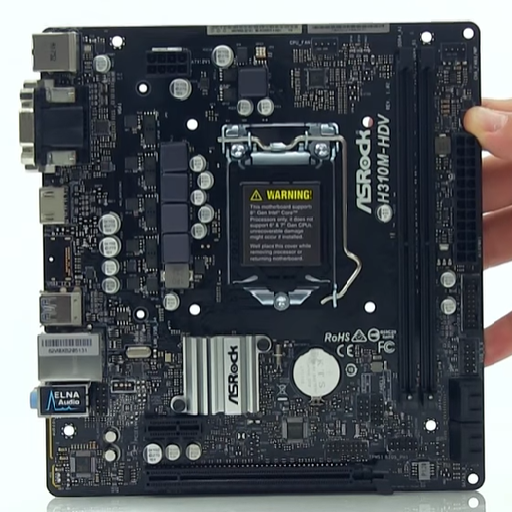CPU: (221, 122, 350, 312)
GPU: (140, 458, 396, 495)
MOTHERBOARD: (18, 23, 486, 493)
RAM: (389, 47, 441, 407)
